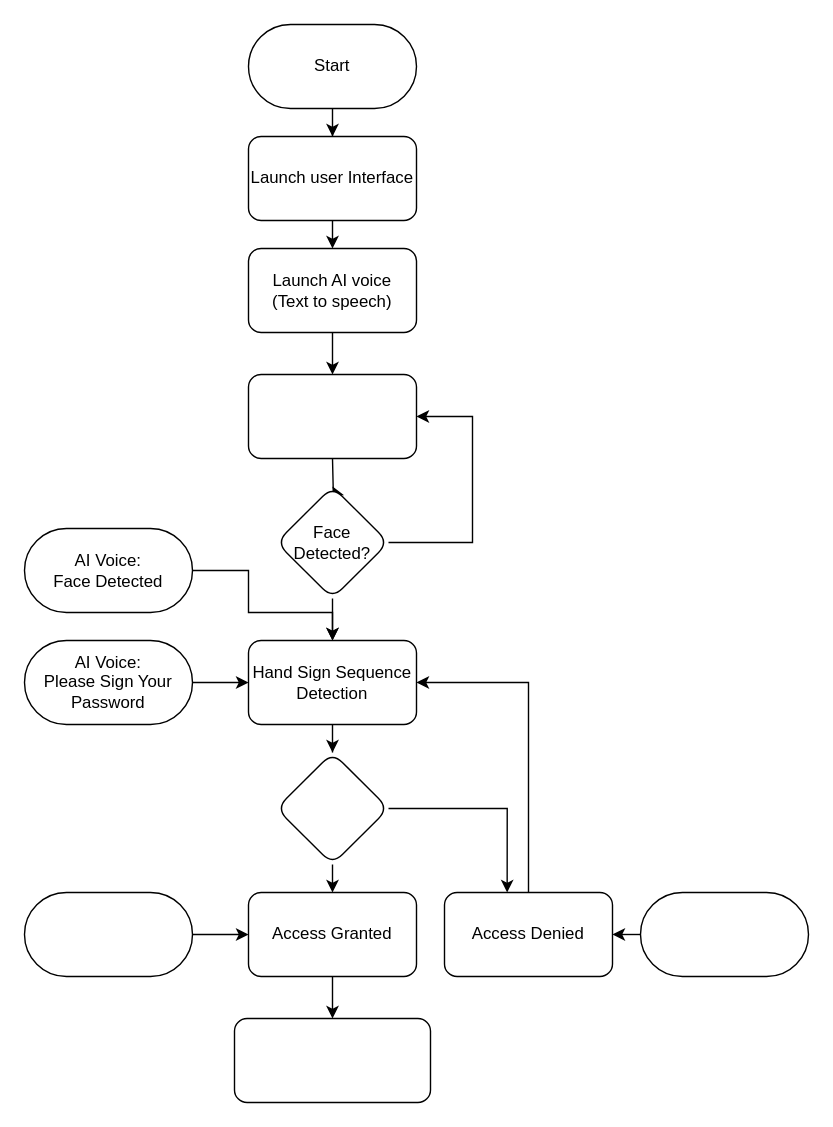
The diagram is 833 pixels wide and 1127 high, and some of its shapes have lost their labels. Here are the shapes that lost their labels. From the top down, the centre of each, then its label:
(331,415): Face detection
(331,807): Sequence Correct?
(107,933): AI voice: Access Granted
(723,933): AI voice: Access Denied
(331,1059): Move Servo (Serial Communication)
